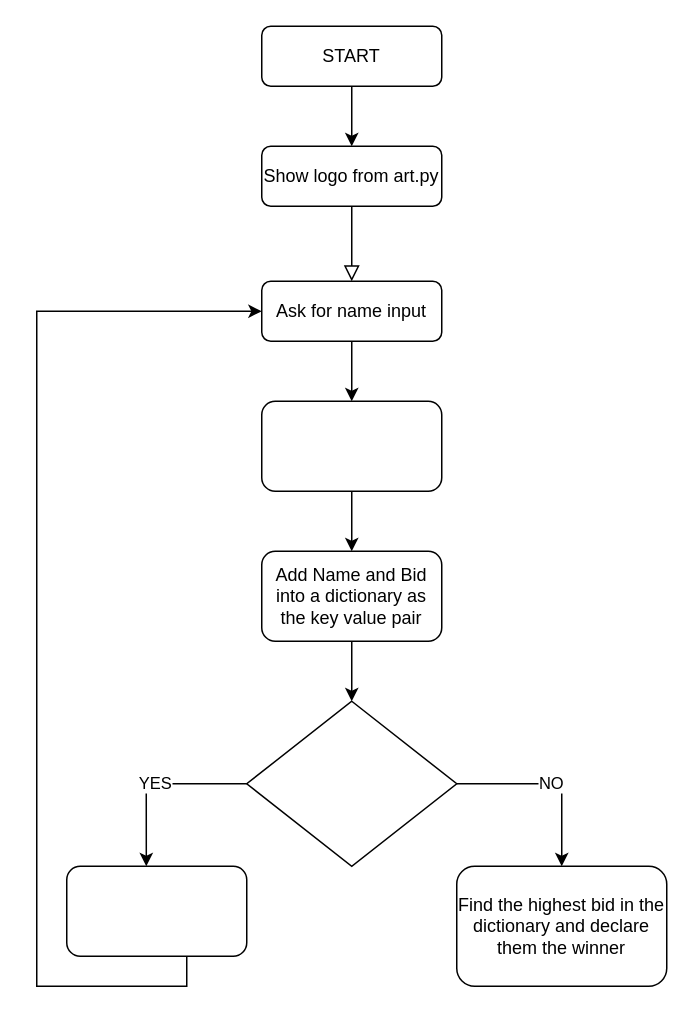
The diagram is 693 pixels wide and 1025 high, and some of its shapes have lost their labels. The shapes that lost their labels are listed below. From the top down, each one's centre as x and y in pixels, then its label:
(351,445): Ask for Bid Price
(351,783): Ask if there are other users who want ot bid
(156,910): Clear the screen
